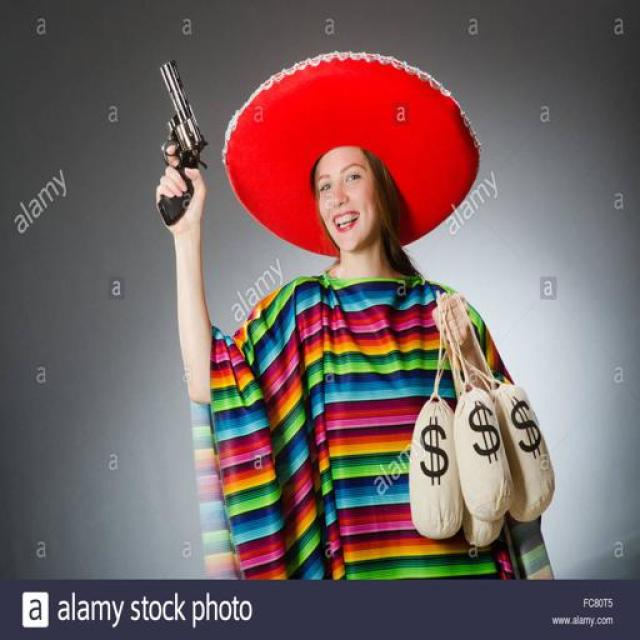pistol: (141, 50, 207, 225)
